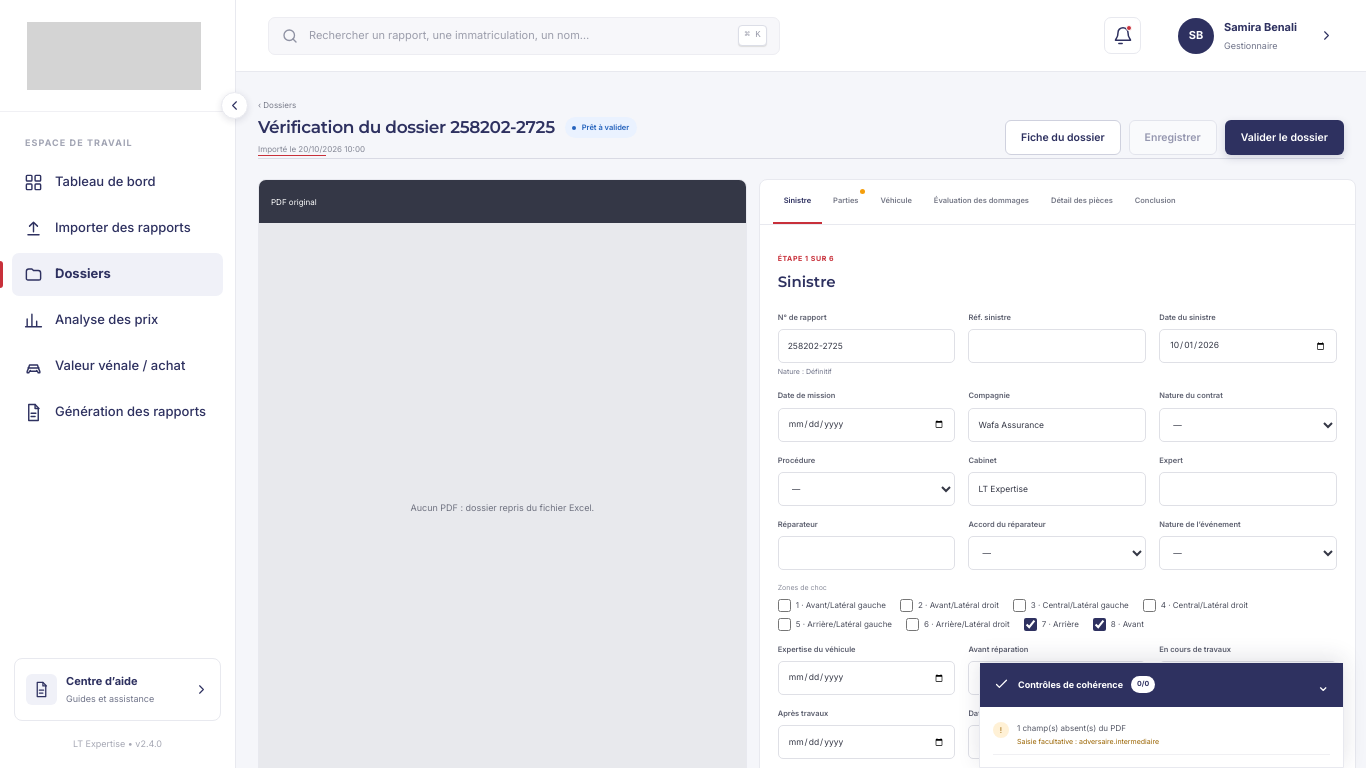
écran de vérification › présente les valeurs clés du commentaire 2026
Click the button "Conclusion" at (1155, 202), box x1=1124 y1=180 x2=1187 y2=224
(page scrolled)
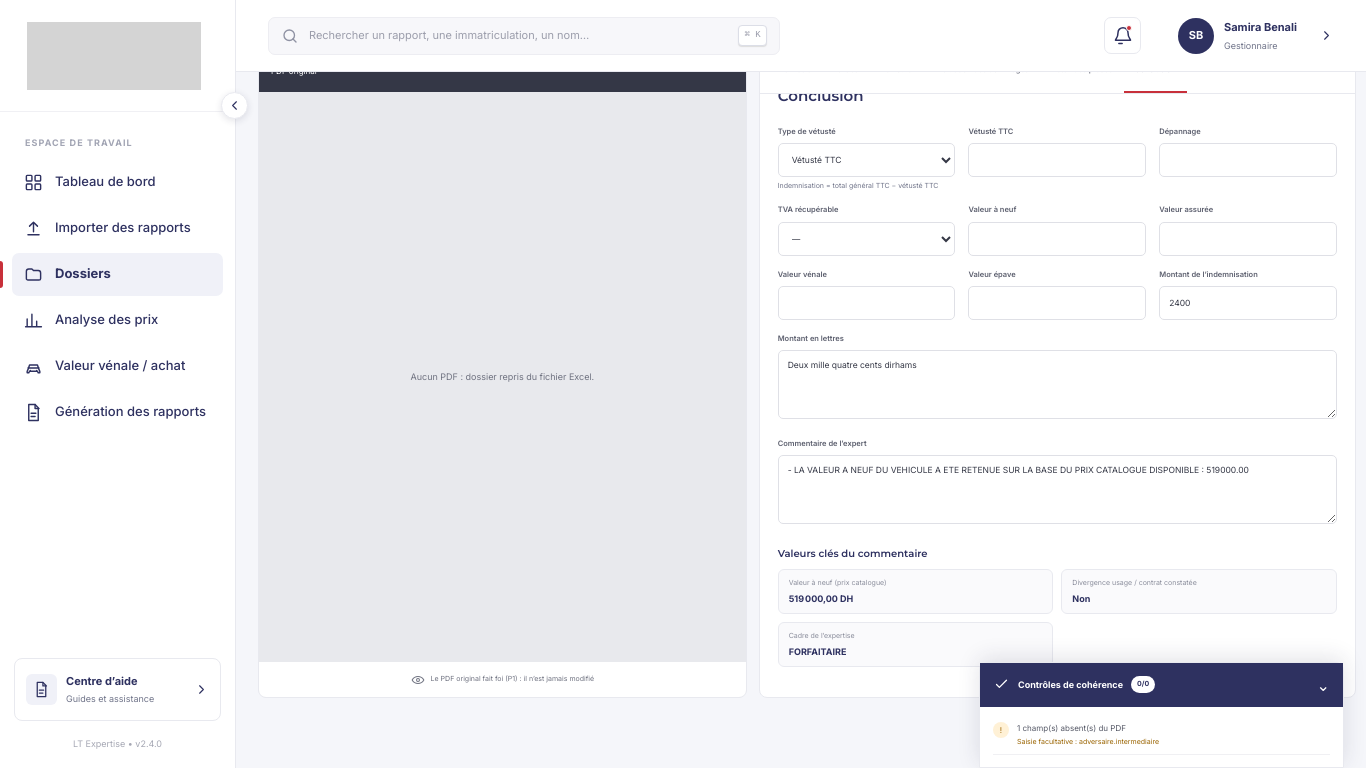
Now the text "Valeur à neuf (prix catalogue)" is shown, box x1=789 y1=578 x2=887 y2=587
Now the text "519 000,00 DH" is shown, box x1=789 y1=593 x2=853 y2=604
Now the text "Non" is shown, box x1=1072 y1=593 x2=1090 y2=604
